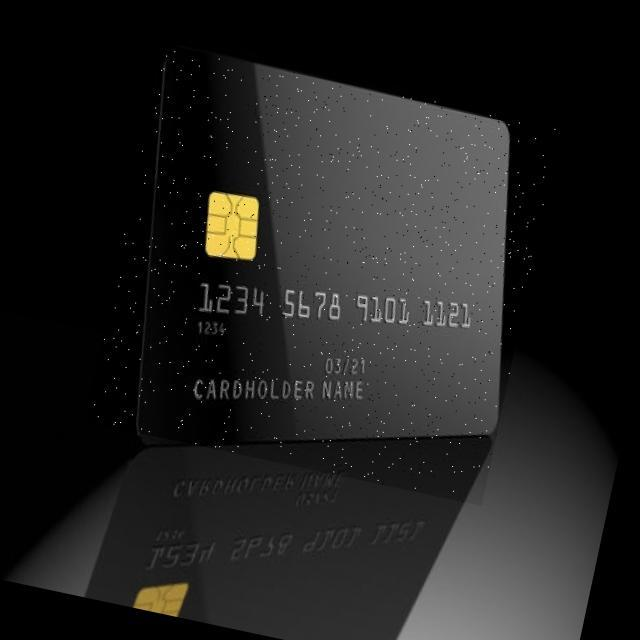payment_card: (134, 45, 510, 446)
